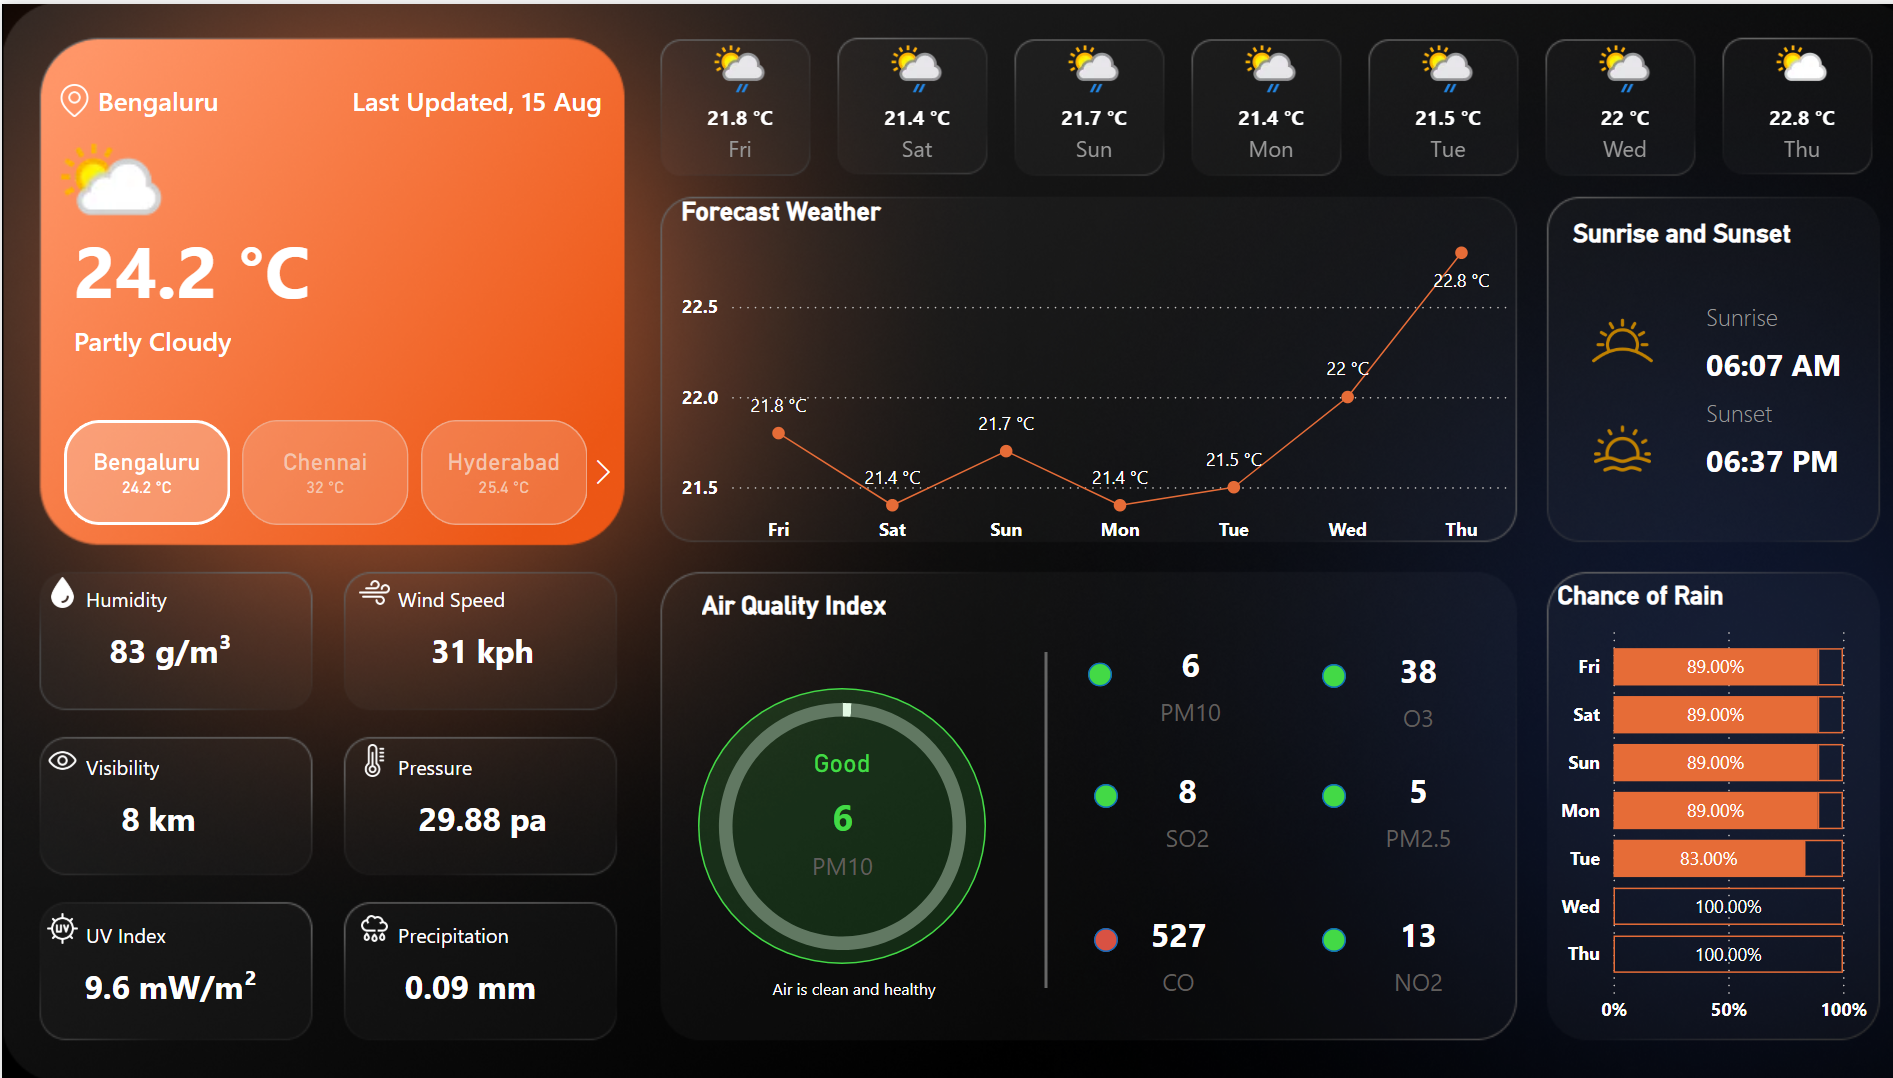

This screenshot's page, from the dashboard's own definition file:
{"tool":"powerbi","page":{"name":"Page 1","canvas":[1280,720],"ordinal":0},"visuals":[{"type":"donutChart","fields":{"Y":["Sum(Current.current.air_quality.pm10)","_Measures.Left_Value_PM10"]},"box":[448,440,224,216],"z":0},{"type":"shape","box":[464,456,192,184],"z":1000},{"type":"advancedSlicerVisual","fields":{"Values":["Locations.location.name"]},"box":[16,272,400,80],"z":2000},{"type":"shape","box":[48,208,176,32],"z":3000},{"type":"shape","box":[48,144,176,64],"z":4000},{"type":"shape","box":[64,48,160,32],"z":5000},{"type":"image","box":[32,48,32,32],"z":6000},{"type":"shape","box":[176,48,224,32],"z":7000},{"type":"cardVisual","fields":{"Data":["Min(Current.current.condition.icon)"]},"box":[16,64,144,128],"z":8000},{"type":"image","box":[24,488,32,32],"z":9000},{"type":"shape","box":[56,496,144,24],"z":10000},{"type":"image","box":[24,376,32,32],"z":11000},{"type":"shape","box":[56,384,144,24],"z":12000},{"type":"image","box":[232,376,32,32],"z":13000},{"type":"shape","box":[264,384,144,24],"z":14000},{"type":"shape","box":[264,496,144,24],"z":15000},{"type":"shape","box":[264,608,144,24],"z":16000},{"type":"shape","box":[56,608,144,24],"z":17000},{"type":"image","box":[232,488,32,32],"z":18000},{"type":"image","box":[24,600,32,32],"z":19000},{"type":"image","box":[232,600,32,32],"z":20000},{"type":"card","fields":{"Values":["_Measures.Humidity"]},"box":[48,400,128,64],"z":21000},{"type":"card","fields":{"Values":["_Measures.Wind_Speed"]},"box":[248,400,144,64],"z":22000},{"type":"card","fields":{"Values":["_Measures.Pressure"]},"box":[272,512,96,64],"z":23000},{"type":"card","fields":{"Values":["_Measures.Visibility"]},"box":[64,512,80,64],"z":24000},{"type":"card","fields":{"Values":["_Measures.UV_Index"]},"box":[48,624,128,64],"z":25000},{"type":"card","fields":{"Values":["_Measures.Precipitation"]},"box":[256,624,112,64],"z":26000},{"type":"advancedSlicerVisual","fields":{"Values":["Forecast_Day.Day"]},"box":[432,16,832,96],"z":27000},{"type":"lineChart","title":"Forecast Weather","fields":{"Y":["Sum(Forecast_Day.forecast.forecastday.day.avgtemp_c)"],"Category":["Forecast_Day.Day"]},"box":[448,128,560,240],"z":28000},{"type":"shape","box":[1040,136,160,32],"z":29000},{"type":"shape","box":[1136,224,96,32],"z":30000},{"type":"shape","box":[1136,256,96,32],"z":31000},{"type":"shape","box":[1136,288,96,32],"z":32000},{"type":"shape","box":[1136,192,96,32],"z":33000},{"type":"image","box":[1040,192,80,64],"z":34000},{"type":"image","box":[1056,272,48,48],"z":35000},{"type":"hundredPercentStackedBarChart","title":"Chance of Rain","fields":{"Y":["Sum(Forecast_Day.forecast.forecastday.day.daily_chance_of_rain)","Current.Left_Value"],"Category":["Forecast_Day.Day"]},"box":[1032,384,216,304],"z":36000},{"type":"shape","box":[448,384,160,32],"z":37000},{"type":"card","fields":{"Values":["Sum(Current.current.air_quality.co)"]},"box":[744,592,80,80],"z":38000},{"type":"card","fields":{"Values":["Sum(Current.current.air_quality.pm10)"]},"box":[744,408,96,88],"z":39000},{"type":"card","fields":{"Values":["Sum(Current.current.air_quality.so2)"]},"box":[741.7,496,96,80],"z":40000},{"type":"card","fields":{"Values":["Sum(Current.current.air_quality.o3)"]},"box":[896,416,96,80],"z":41000},{"type":"card","fields":{"Values":["Sum(Current.current.air_quality.pm2_5)"]},"box":[896,496,96,80],"z":42000},{"type":"card","fields":{"Values":["Sum(Current.current.air_quality.no2)"]},"box":[896,592,96,80],"z":43000},{"type":"shape","box":[724.1,438.8,16,16],"z":44000},{"type":"shape","box":[728,616,16,16],"z":45000},{"type":"shape","box":[728,520,16,16],"z":46000},{"type":"shape","box":[880,440,16,16],"z":47000},{"type":"shape","box":[880,616,16,16],"z":48000},{"type":"shape","box":[880,520,16,16],"z":49000},{"type":"shape","box":[608,432,176,224],"z":50000},{"type":"card","fields":{"Values":["Sum(Current.current.air_quality.pm10)"]},"box":[512,496,96,96],"z":51000},{"type":"shape","box":[440,640,256,32],"z":52000}]}

Visuals, with their boxes in screenshot pixels (x1, y1, x2, y2), scaled from the page's 1280x720 canvas onto the 1893x1078 screenshot:
donutChart - Sum(Current.current.air_quality.pm10) x _Measures.Left_Value_PM10: [left=663, top=659, right=994, bottom=982]
shape: [left=686, top=683, right=970, bottom=958]
advancedSlicerVisual - Locations.location.name: [left=24, top=407, right=615, bottom=527]
shape: [left=71, top=311, right=331, bottom=359]
shape: [left=71, top=216, right=331, bottom=311]
shape: [left=95, top=72, right=331, bottom=120]
image: [left=47, top=72, right=95, bottom=120]
shape: [left=260, top=72, right=592, bottom=120]
cardVisual - Min(Current.current.condition.icon): [left=24, top=96, right=237, bottom=287]
image: [left=35, top=731, right=83, bottom=779]
shape: [left=83, top=743, right=296, bottom=779]
image: [left=35, top=563, right=83, bottom=611]
shape: [left=83, top=575, right=296, bottom=611]
image: [left=343, top=563, right=390, bottom=611]
shape: [left=390, top=575, right=603, bottom=611]
shape: [left=390, top=743, right=603, bottom=779]
shape: [left=390, top=910, right=603, bottom=946]
shape: [left=83, top=910, right=296, bottom=946]
image: [left=343, top=731, right=390, bottom=779]
image: [left=35, top=898, right=83, bottom=946]
image: [left=343, top=898, right=390, bottom=946]
card - _Measures.Humidity: [left=71, top=599, right=260, bottom=695]
card - _Measures.Wind_Speed: [left=367, top=599, right=580, bottom=695]
card - _Measures.Pressure: [left=402, top=767, right=544, bottom=862]
card - _Measures.Visibility: [left=95, top=767, right=213, bottom=862]
card - _Measures.UV_Index: [left=71, top=934, right=260, bottom=1030]
card - _Measures.Precipitation: [left=379, top=934, right=544, bottom=1030]
advancedSlicerVisual - Forecast_Day.Day: [left=639, top=24, right=1869, bottom=168]
"Forecast Weather" lineChart: [left=663, top=192, right=1491, bottom=551]
shape: [left=1538, top=204, right=1775, bottom=252]
shape: [left=1680, top=335, right=1822, bottom=383]
shape: [left=1680, top=383, right=1822, bottom=431]
shape: [left=1680, top=431, right=1822, bottom=479]
shape: [left=1680, top=287, right=1822, bottom=335]
image: [left=1538, top=287, right=1656, bottom=383]
image: [left=1562, top=407, right=1633, bottom=479]
"Chance of Rain" hundredPercentStackedBarChart: [left=1526, top=575, right=1846, bottom=1030]
shape: [left=663, top=575, right=899, bottom=623]
card - Sum(Current.current.air_quality.co): [left=1100, top=886, right=1219, bottom=1006]
card - Sum(Current.current.air_quality.pm10): [left=1100, top=611, right=1242, bottom=743]
card - Sum(Current.current.air_quality.so2): [left=1097, top=743, right=1239, bottom=862]
card - Sum(Current.current.air_quality.o3): [left=1325, top=623, right=1467, bottom=743]
card - Sum(Current.current.air_quality.pm2_5): [left=1325, top=743, right=1467, bottom=862]
card - Sum(Current.current.air_quality.no2): [left=1325, top=886, right=1467, bottom=1006]
shape: [left=1071, top=657, right=1095, bottom=681]
shape: [left=1077, top=922, right=1100, bottom=946]
shape: [left=1077, top=779, right=1100, bottom=803]
shape: [left=1301, top=659, right=1325, bottom=683]
shape: [left=1301, top=922, right=1325, bottom=946]
shape: [left=1301, top=779, right=1325, bottom=803]
shape: [left=899, top=647, right=1159, bottom=982]
card - Sum(Current.current.air_quality.pm10): [left=757, top=743, right=899, bottom=886]
shape: [left=651, top=958, right=1029, bottom=1006]
